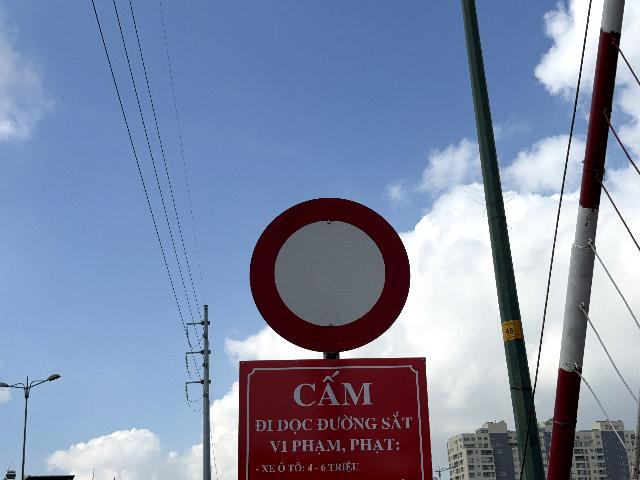duong-cam: (249, 197, 411, 351)
